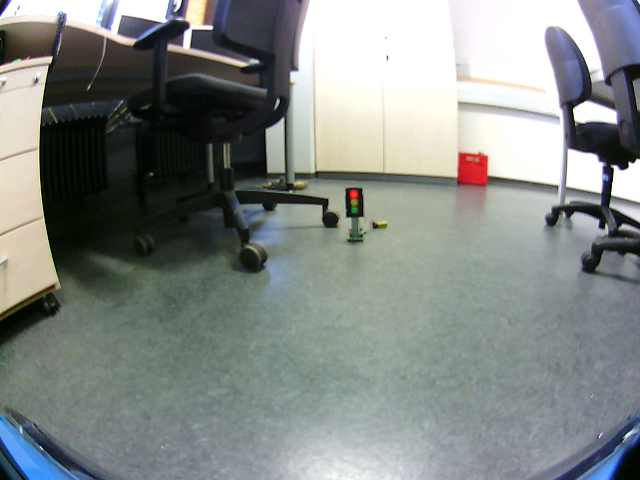red trafficlight: (348, 188, 362, 217)
